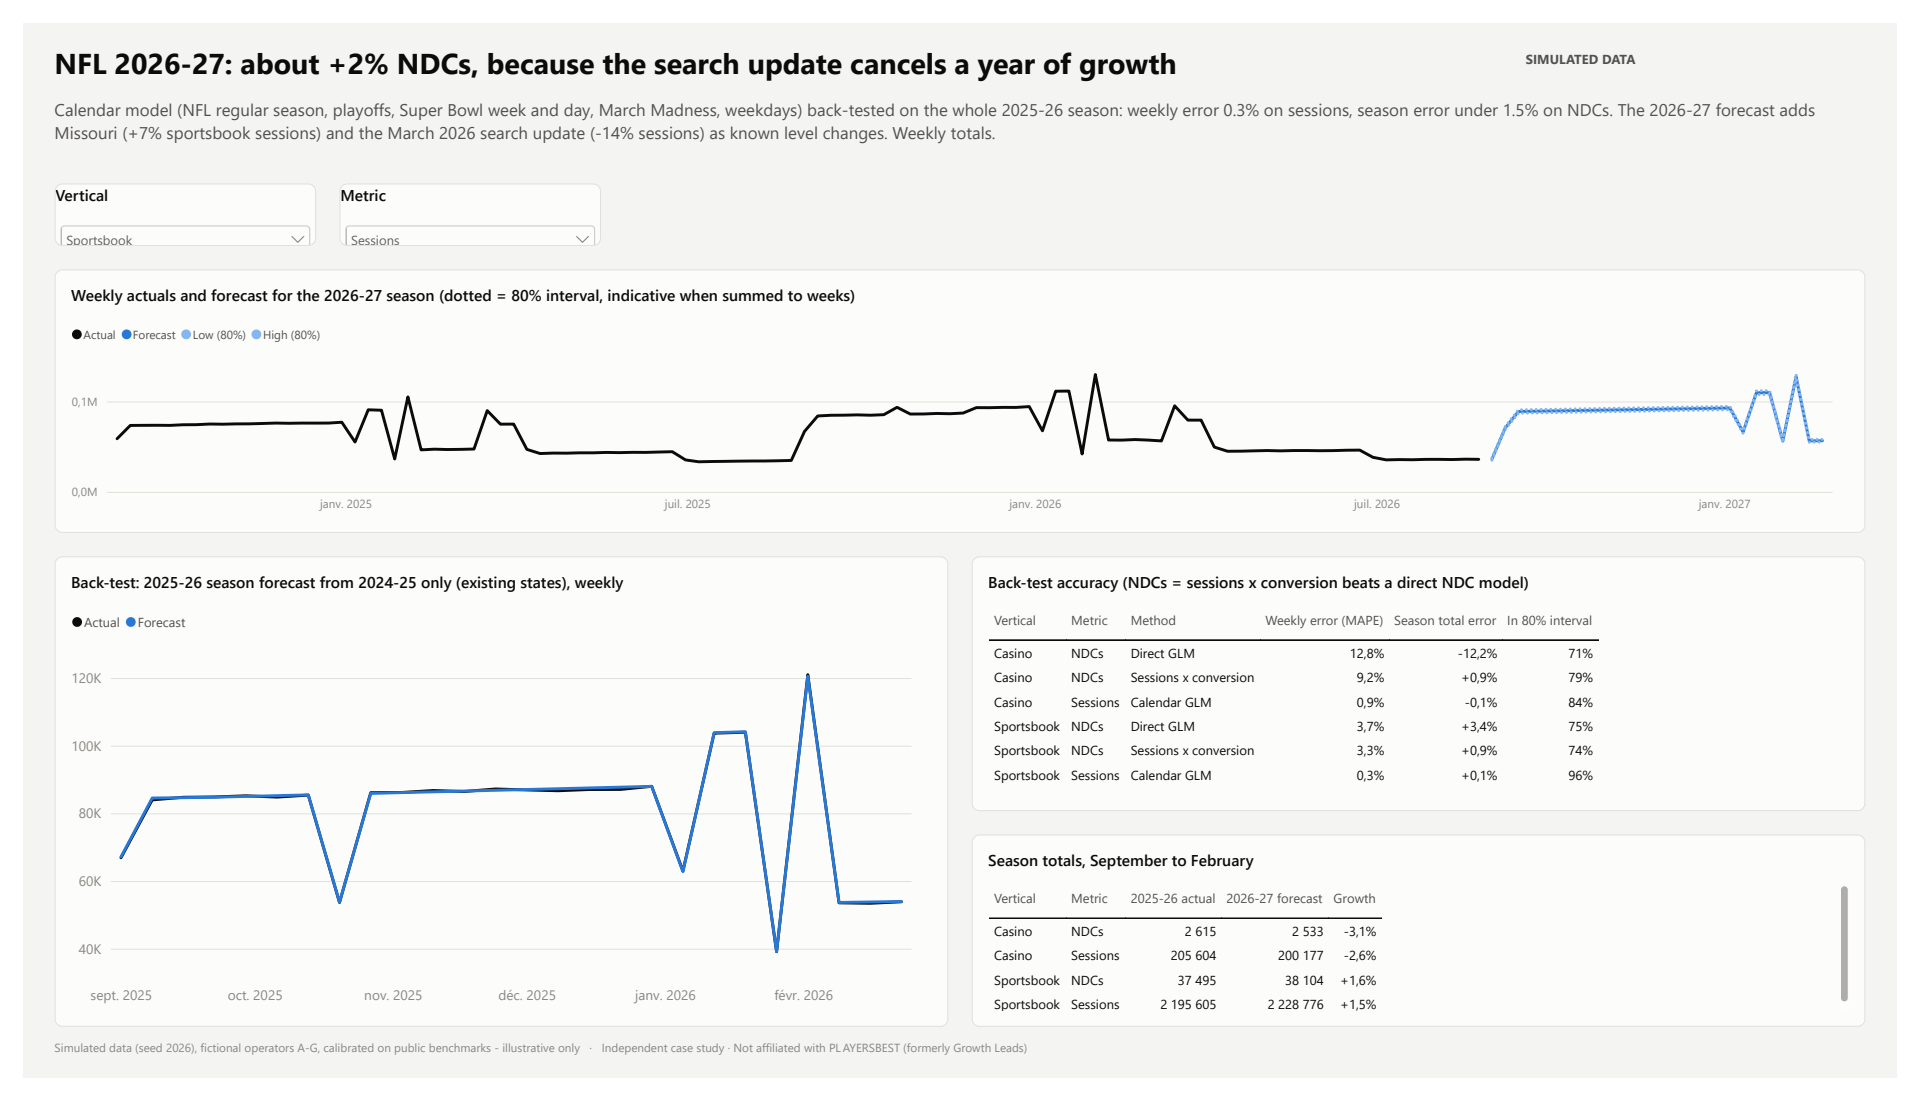

What the dashboard file says about the page in this screenshot:
{"tool":"powerbi","page":{"name":"5 · Forecast 2026-27","canvas":[1920,1080],"ordinal":5},"visuals":[{"type":"textbox","box":[32,20,1500,56],"z":1000},{"type":"textbox","box":[1540,28,348,40],"z":2000},{"type":"textbox","box":[32,76,1856,72],"z":3000},{"type":"slicer","title":"Vertical","fields":{"Values":["Vertical.vertical"]},"box":[32,164,268,64],"z":4000},{"type":"slicer","title":"Metric","fields":{"Values":["Forecast.metric"]},"box":[324,164,268,64],"z":5000},{"type":"lineChart","title":"Weekly actuals and forecast for the 2026-27 season (dotted = 80% interval, indicative when summed to weeks)","fields":{"Category":["Date.Week"],"Y":["_Measures.Actual","_Measures.Forecast 2026-27","_Measures.Forecast Low 80","_Measures.Forecast High 80"]},"box":[32,252,1856,270],"z":6000},{"type":"lineChart","title":"Back-test: 2025-26 season forecast from 2024-25 only (existing states), weekly","fields":{"Category":["Date.Week"],"Y":["_Measures.Back-test Actual","_Measures.Back-test Forecast"]},"box":[32,546,916,482],"z":7000},{"type":"tableEx","title":"Back-test accuracy (NDCs = sessions x conversion beats a direct NDC model)","fields":{"Values":["Backtest.vertical","Backtest.metric","Backtest.method","Backtest.mape_weekly","Backtest.season_error","Backtest.coverage_80"]},"box":[972,546,916,261],"z":8000},{"type":"tableEx","title":"Season totals, September to February","fields":{"Values":["Season Totals.vertical","Season Totals.metric","Season Totals.actual_2025_26","Season Totals.forecast_2026_27","Season Totals.growth"]},"box":[972,831,916,197],"z":9000},{"type":"textbox","box":[32,1040,1856,32],"z":10000}]}

Visuals, with their boxes in screenshot pixels (x1, y1, x2, y2), scaled from the page's 1920x1080 canvas onto the 1920x1101 screenshot:
textbox: Rect(32, 20, 1532, 77)
textbox: Rect(1540, 29, 1888, 69)
textbox: Rect(32, 77, 1888, 151)
"Vertical" slicer: Rect(32, 167, 300, 232)
"Metric" slicer: Rect(324, 167, 592, 232)
"Weekly actuals and forecast for the 2026-27 season (dotted = 80% interval, indicative when summed to weeks)" lineChart: Rect(32, 257, 1888, 532)
"Back-test: 2025-26 season forecast from 2024-25 only (existing states), weekly" lineChart: Rect(32, 557, 948, 1048)
"Back-test accuracy (NDCs = sessions x conversion beats a direct NDC model)" tableEx: Rect(972, 557, 1888, 823)
"Season totals, September to February" tableEx: Rect(972, 847, 1888, 1048)
textbox: Rect(32, 1060, 1888, 1093)
